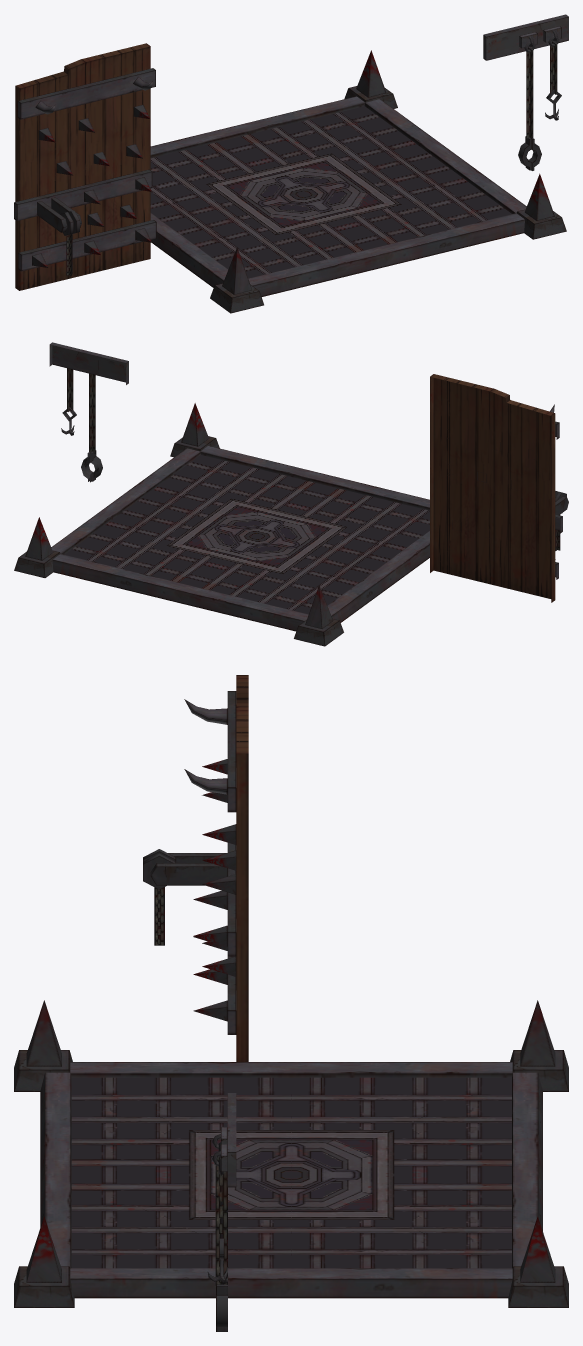
The model's file is 2_DG_MenDiLouXingJu_01.FBX.
3 views of the same model, one above another, from view 1: azimuth 30°, elevation 25°; view 2: azimuth 150°, elevation 25°; view 3: azimuth 270°, elevation 25° (orthographic). The views are drawn at different scales.
Visible parts, largest first — view 1: 2_DG_DiLou_01, 2_DG_TieCIMen_01, 2_DG_XingJu_02_01, 2_DG_XingJu_02_02, 2_DG_XingJu_02_03; view 2: 2_DG_DiLou_01, 2_DG_TieCIMen_01, 2_DG_XingJu_02_01, 2_DG_XingJu_02_02, 2_DG_XingJu_02_03; view 3: 2_DG_DiLou_01, 2_DG_TieCIMen_01, 2_DG_XingJu_02_03, 2_DG_XingJu_02_02, 2_DG_XingJu_02_01.
Boxes of the visible parts, <box> form: 2_DG_DiLou_01: <box>150,50,566,313</box>; 2_DG_TieCIMen_01: <box>14,43,156,290</box>; 2_DG_XingJu_02_01: <box>483,14,568,60</box>; 2_DG_XingJu_02_02: <box>518,32,541,170</box>; 2_DG_XingJu_02_03: <box>543,26,561,120</box>; 2_DG_DiLou_01: <box>14,403,429,646</box>; 2_DG_TieCIMen_01: <box>430,374,568,602</box>; 2_DG_XingJu_02_01: <box>49,342,128,384</box>; 2_DG_XingJu_02_02: <box>81,360,102,482</box>; 2_DG_XingJu_02_03: <box>61,368,76,435</box>; 2_DG_DiLou_01: <box>14,1000,568,1307</box>; 2_DG_TieCIMen_01: <box>143,675,248,1061</box>; 2_DG_XingJu_02_03: <box>207,1144,228,1283</box>; 2_DG_XingJu_02_02: <box>212,1127,227,1331</box>; 2_DG_XingJu_02_01: <box>227,1093,236,1187</box>.
Size of the model in its own units: 1182 by 435 by 703.
